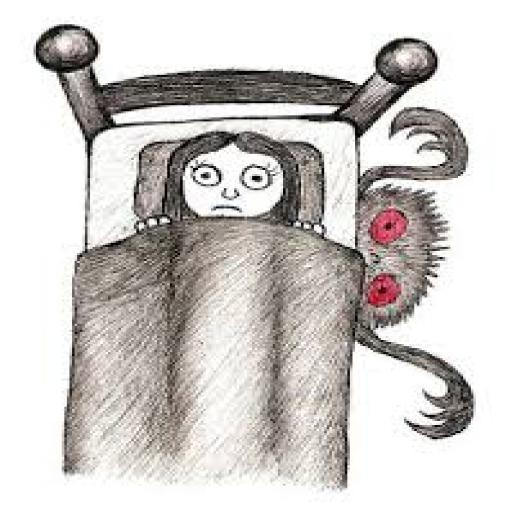person: (132, 134, 331, 270)
